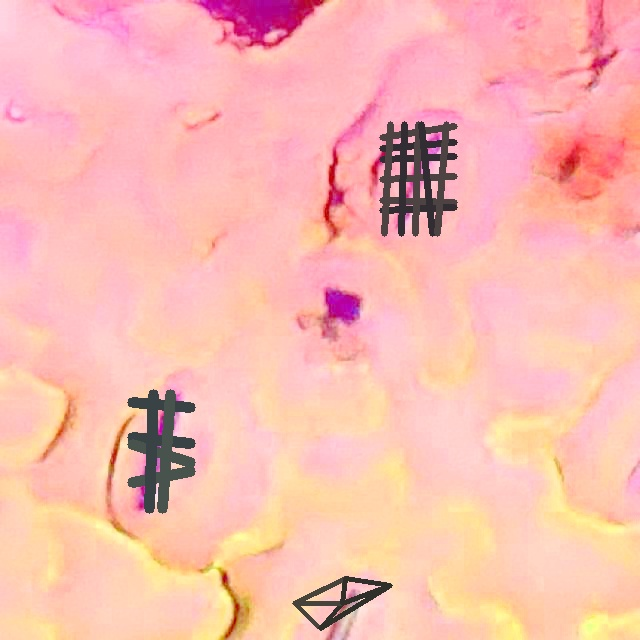open: (379, 121, 457, 236), (127, 390, 195, 512), (292, 577, 391, 629)
